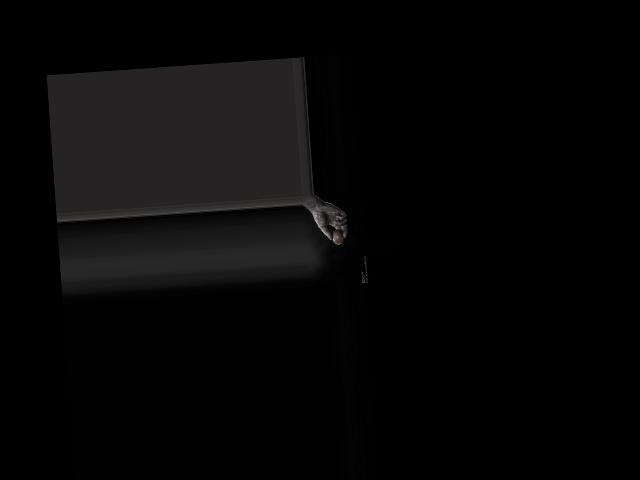egg: (331, 228, 344, 244)
